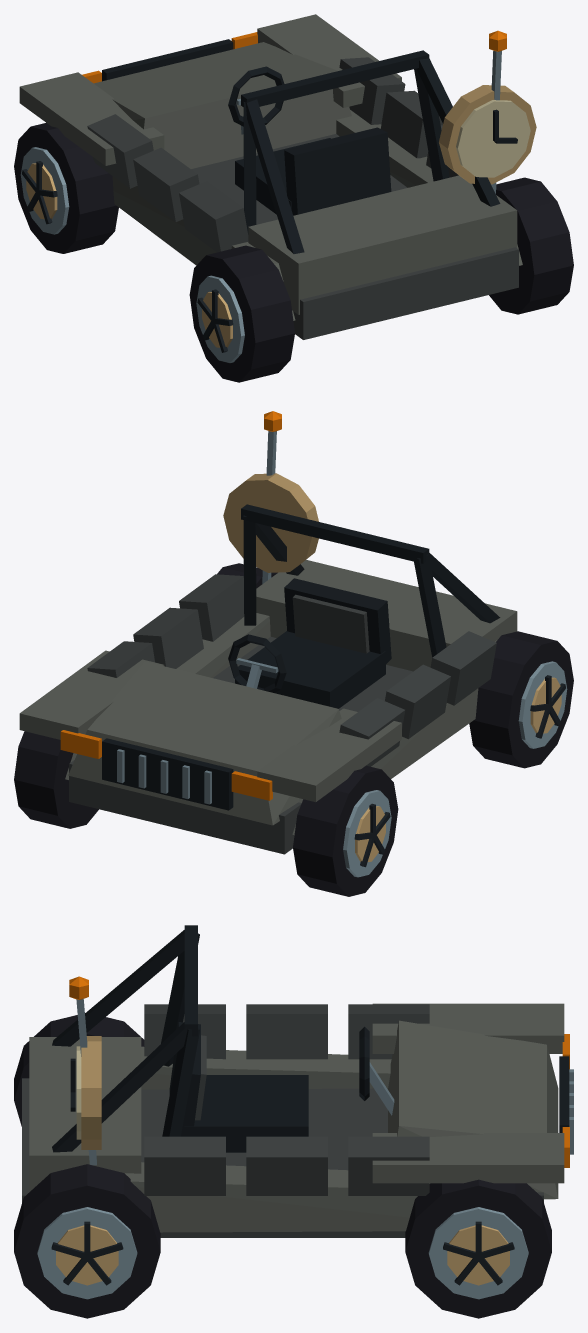
Rendered from kart.glb.
3 renders of one model, top to bottom at view 1: azimuth 30°, elevation 25°; view 2: azimuth 150°, elevation 25°; view 3: azimuth 270°, elevation 25°, orthographic. The views are drawn at different scales.
Visible parts, largest first — view 1: identity-jeep-jeep-offroad-frame, identity-jeep-motif-armor, wheel-rear-left, wheel-front-left, identity-jeep-driver-cockpit, identity-jeep-motif-clock, wheel-rear-right, identity-jeep-motif-antenna; view 2: identity-jeep-jeep-offroad-frame, identity-jeep-motif-armor, identity-jeep-driver-cockpit, wheel-rear-left, wheel-front-left, identity-jeep-motif-clock, wheel-front-right, identity-jeep-motif-antenna; view 3: identity-jeep-jeep-offroad-frame, identity-jeep-motif-armor, wheel-rear-right, wheel-front-right, identity-jeep-driver-cockpit, identity-jeep-motif-clock, wheel-rear-left, identity-jeep-motif-antenna.
Boxes of the visible parts, left/top/right/bottom form: identity-jeep-jeep-offroad-frame: left=19, top=14, right=522, bottom=339; identity-jeep-motif-armor: left=87, top=57, right=458, bottom=252; wheel-rear-left: left=189, top=245, right=294, bottom=382; wheel-front-left: left=14, top=123, right=118, bottom=253; identity-jeep-driver-cockpit: left=228, top=66, right=391, bottom=215; identity-jeep-motif-clock: left=439, top=85, right=536, bottom=184; wheel-rear-right: left=489, top=177, right=573, bottom=314; identity-jeep-motif-antenna: left=489, top=30, right=506, bottom=193; identity-jeep-jeep-offroad-frame: left=19, top=504, right=517, bottom=854; identity-jeep-motif-armor: left=87, top=574, right=496, bottom=766; identity-jeep-driver-cockpit: left=228, top=578, right=391, bottom=708; wheel-rear-left: left=469, top=631, right=573, bottom=768; wheel-front-left: left=293, top=765, right=398, bottom=896; identity-jeep-motif-clock: left=223, top=473, right=318, bottom=572; wheel-front-right: left=14, top=731, right=98, bottom=828; identity-jeep-motif-antenna: left=262, top=411, right=281, bottom=583; identity-jeep-jeep-offroad-frame: left=22, top=925, right=573, bottom=1237; identity-jeep-motif-armor: left=144, top=1004, right=429, bottom=1195; wheel-rear-right: left=14, top=1164, right=160, bottom=1318; wheel-front-right: left=405, top=1179, right=551, bottom=1318; identity-jeep-driver-cockpit: left=169, top=1022, right=394, bottom=1152; identity-jeep-motif-clock: left=70, top=1036, right=101, bottom=1149; wheel-rear-left: left=14, top=1015, right=144, bottom=1126; identity-jeep-motif-antenna: left=69, top=976, right=96, bottom=1165.
Size of the model in its own units: 2.13 by 1.72 by 2.75.
